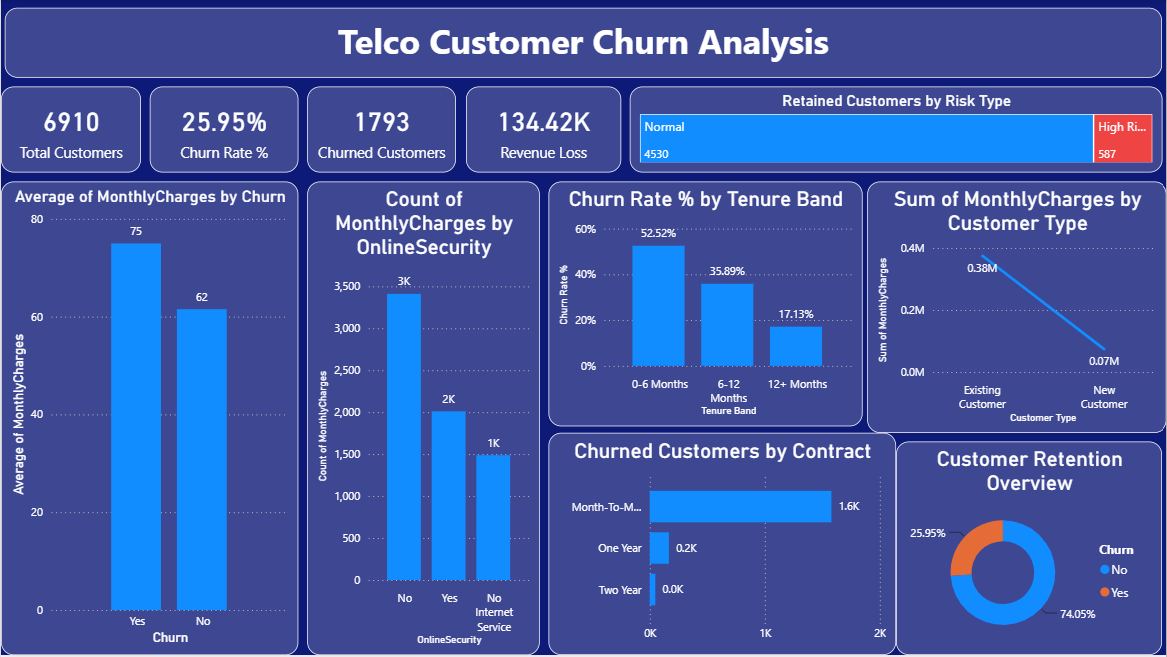

What the dashboard file says about the page in this screenshot:
{"tool":"powerbi","page":{"name":"Customer Churn Analysis Dashboard","canvas":[1280,720],"ordinal":0},"visuals":[{"type":"textbox","box":[4.1,9.6,1270.7,76.8],"z":0},{"type":"treemap","fields":{"Group":["telco_churn_unclean.Risk Type"],"Values":["Calculated Measure.Retained Customers"]},"box":[690.2,96.1,584.6,94.7],"z":1000},{"type":"card","fields":{"Values":["Calculated Measure.Total Customers"]},"box":[0,96.1,153.7,94.7],"z":2000},{"type":"card","fields":{"Values":["Calculated Measure.Churn Rate %"]},"box":[163.3,96.1,163.3,94.7],"z":3000},{"type":"card","fields":{"Values":["Calculated Measure.Churned Customers"]},"box":[336.2,96.1,163.3,94.7],"z":4000},{"type":"donutChart","title":"Customer Retention Overview","fields":{"Category":["telco_churn_unclean.Churn"],"Y":["Calculated Measure.Total Cutomers"]},"box":[982.5,485.8,292.3,234.6],"z":5000},{"type":"barChart","fields":{"Category":["telco_churn_unclean.Contract"],"Y":["Calculated Measure.Churned Customers"]},"box":[601,476.2,381.5,244.3],"z":6000},{"type":"columnChart","fields":{"Category":["telco_churn_unclean.OnlineSecurity"],"Y":["CountNonNull(telco_churn_unclean.MonthlyCharges)"]},"box":[336.2,200.3,255.2,520.1],"z":7000},{"type":"columnChart","fields":{"Category":["telco_churn_unclean.Tenure Band"],"Y":["Calculated Measure.Churn Rate %"]},"box":[601,200.3,344.4,269],"z":8000},{"type":"clusteredColumnChart","fields":{"Category":["telco_churn_unclean.Churn"],"Y":["Avg(telco_churn_unclean.MonthlyCharges)"]},"box":[0,200.3,326.6,520.1],"z":9000},{"type":"lineChart","fields":{"Category":["telco_churn_unclean.Customer Type"],"Y":["Sum(telco_churn_unclean.MonthlyCharges)"]},"box":[950.9,200.3,329.3,275.8],"z":10000},{"type":"card","fields":{"Values":["Calculated Measure.Revenue Loss"]},"box":[510.5,96.1,170.2,94.7],"z":11000}]}

Visuals, with their boxes in screenshot pixels (x1, y1, x2, y2), scaled from the page's 1280x720 canvas onto the 1167x657 screenshot:
textbox: 4/9/1162/79
treemap - telco_churn_unclean.Risk Type x Calculated Measure.Retained Customers: 629/88/1162/174
card - Calculated Measure.Total Customers: 0/88/140/174
card - Calculated Measure.Churn Rate %: 149/88/298/174
card - Calculated Measure.Churned Customers: 307/88/455/174
"Customer Retention Overview" donutChart: 896/443/1162/656
barChart - telco_churn_unclean.Contract x Calculated Measure.Churned Customers: 548/435/896/656
columnChart - telco_churn_unclean.OnlineSecurity x CountNonNull(telco_churn_unclean.MonthlyCharges): 307/183/539/656
columnChart - telco_churn_unclean.Tenure Band x Calculated Measure.Churn Rate %: 548/183/862/428
clusteredColumnChart - telco_churn_unclean.Churn x Avg(telco_churn_unclean.MonthlyCharges): 0/183/298/656
lineChart - telco_churn_unclean.Customer Type x Sum(telco_churn_unclean.MonthlyCharges): 867/183/1166/434
card - Calculated Measure.Revenue Loss: 465/88/621/174
